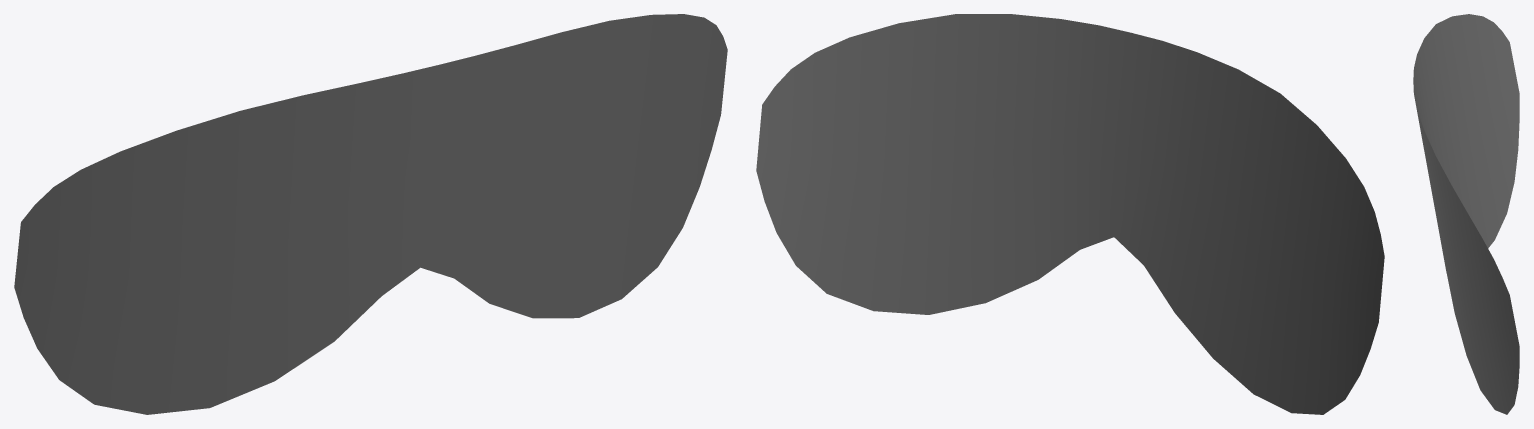
The model's file is jingpian.FBX.
3 views of the same model, side by side, from view 1: azimuth 30°, elevation 25°; view 2: azimuth 150°, elevation 25°; view 3: azimuth 270°, elevation 25° (orthographic). The views are drawn at different scales.
Parts seen in each view (by area): view 1: TK004; view 2: TK004; view 3: TK004.
Boxes of the visible parts, x1=… form: TK004: x1=14, y1=14, x2=727, y2=414; TK004: x1=756, y1=14, x2=1384, y2=414; TK004: x1=1413, y1=14, x2=1519, y2=414.
Size of the model in its own units: 3.94 by 1.78 by 0.7011.
Materials: 1 (1 with a texture image).
